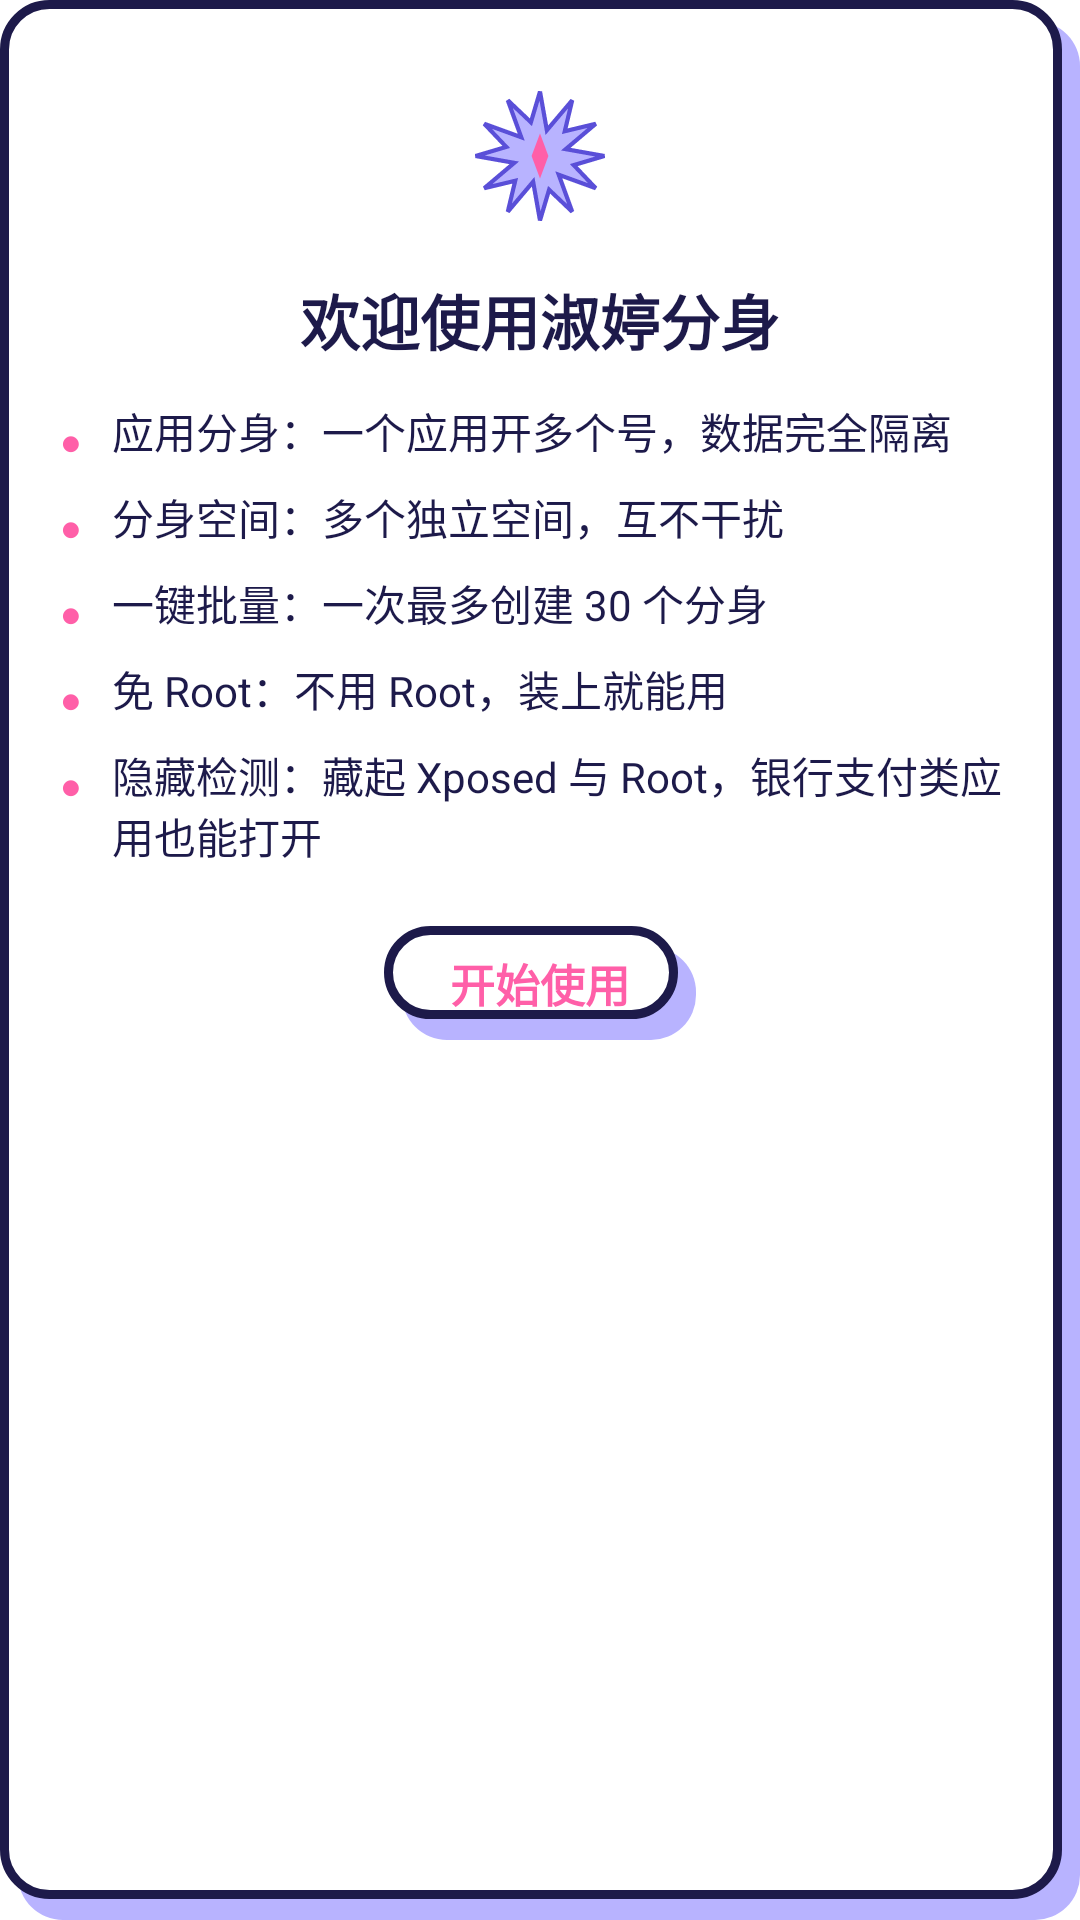

Screen size 1080 × 1920. Icon name, then its center in pixels as (x=x, y=y):
sakuga burst: (x=540, y=156)
